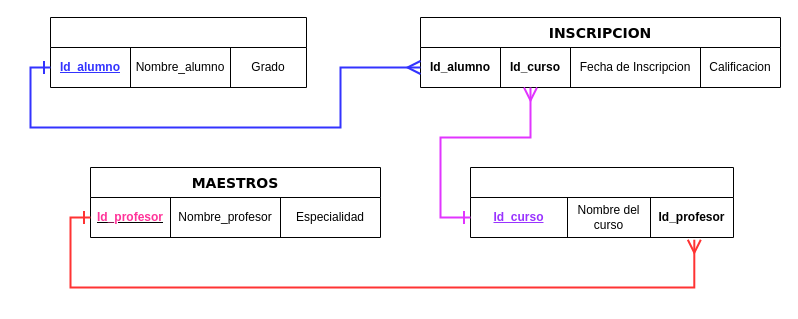
This 798x319 diagram has some shape labels left out. The shapes that lost their labels are listed below. From the top down, each one's box as (x1, y1, x2, y2) in pixels, then its label:
(50, 16, 306, 88): ALUMNOS
(470, 166, 734, 238): CURSOS
